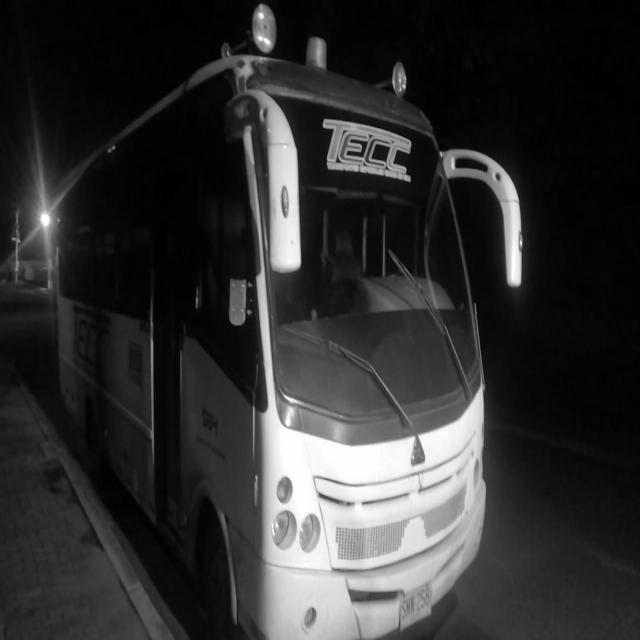plate: (398, 581, 434, 627)
